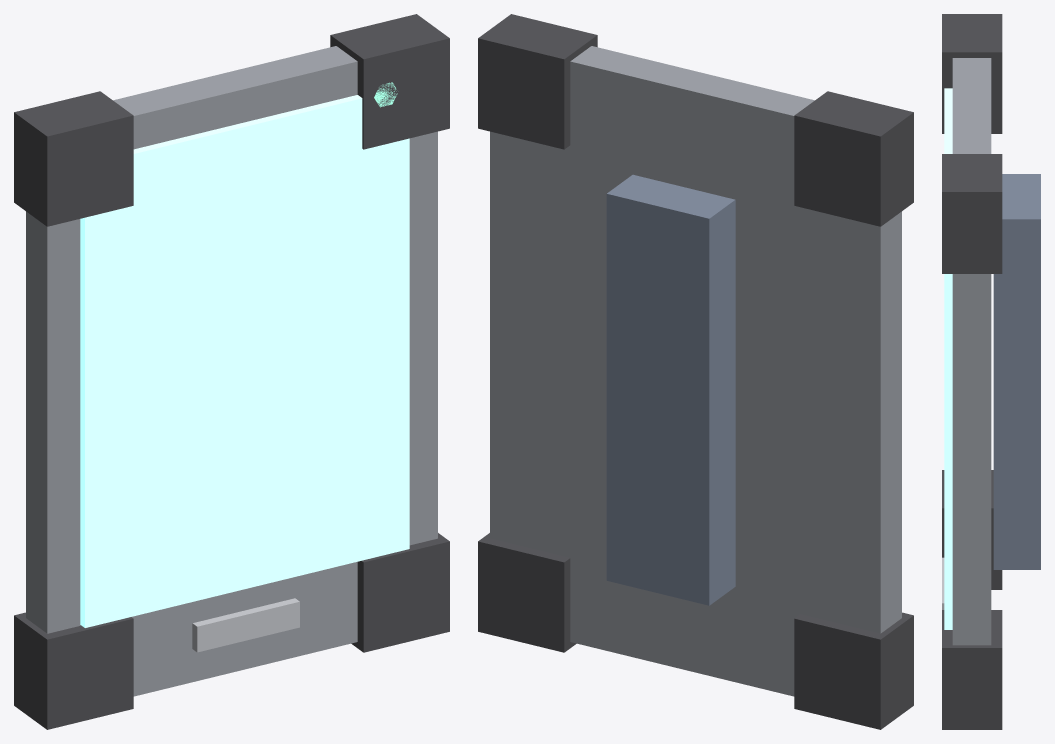
The model's file is prop_datapad.glb.
3 views of the same model, side by side, from view 1: azimuth 30°, elevation 25°; view 2: azimuth 150°, elevation 25°; view 3: azimuth 270°, elevation 25° (orthographic). The views are drawn at different scales.
Visible parts, largest first — view 1: prop_datapad; view 2: prop_datapad; view 3: prop_datapad.
Part boxes in pixels (x1,y1,x2,y2): prop_datapad: (14,14,449,729); prop_datapad: (478,14,913,729); prop_datapad: (942,14,1040,729).
Size of the model in its own units: 0.196 by 0.276 by 0.046.
